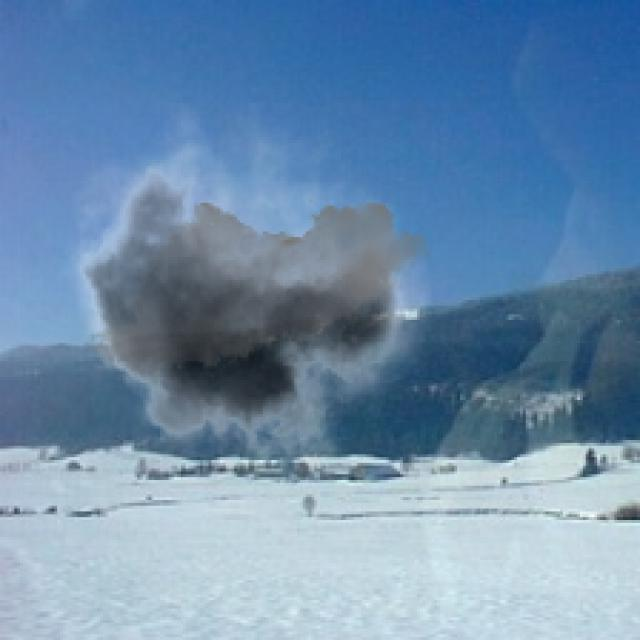smoke: (51, 100, 432, 483)
